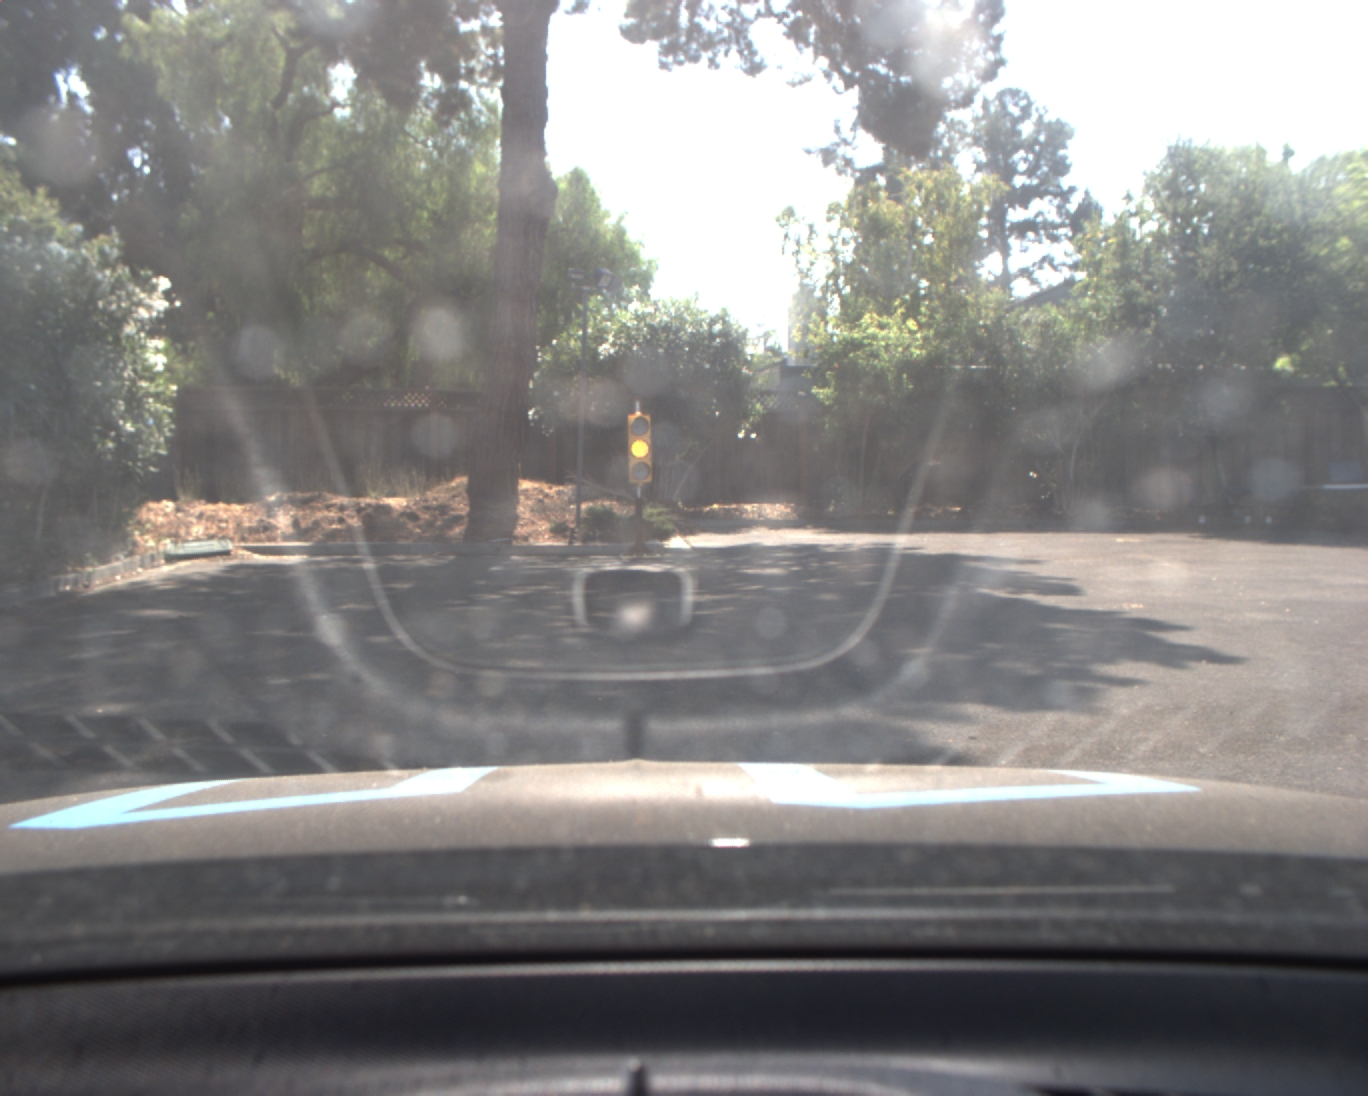yellow: (625, 414, 656, 483)
